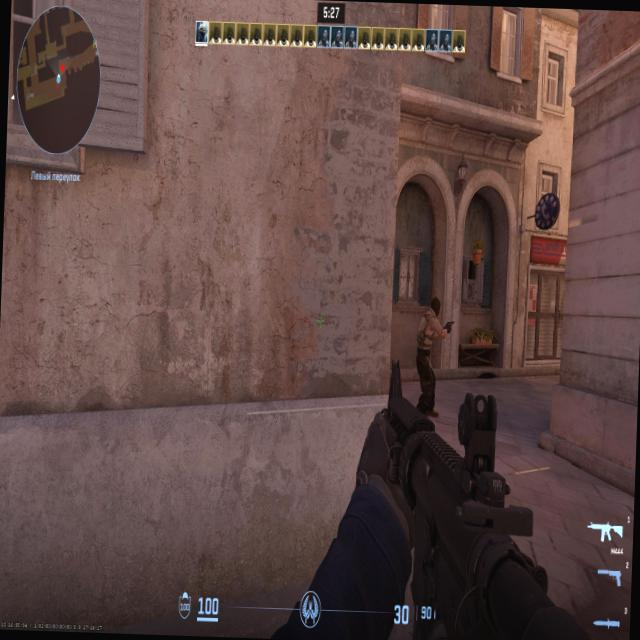T: (422, 301, 442, 420)
T_heat: (430, 300, 440, 314)
